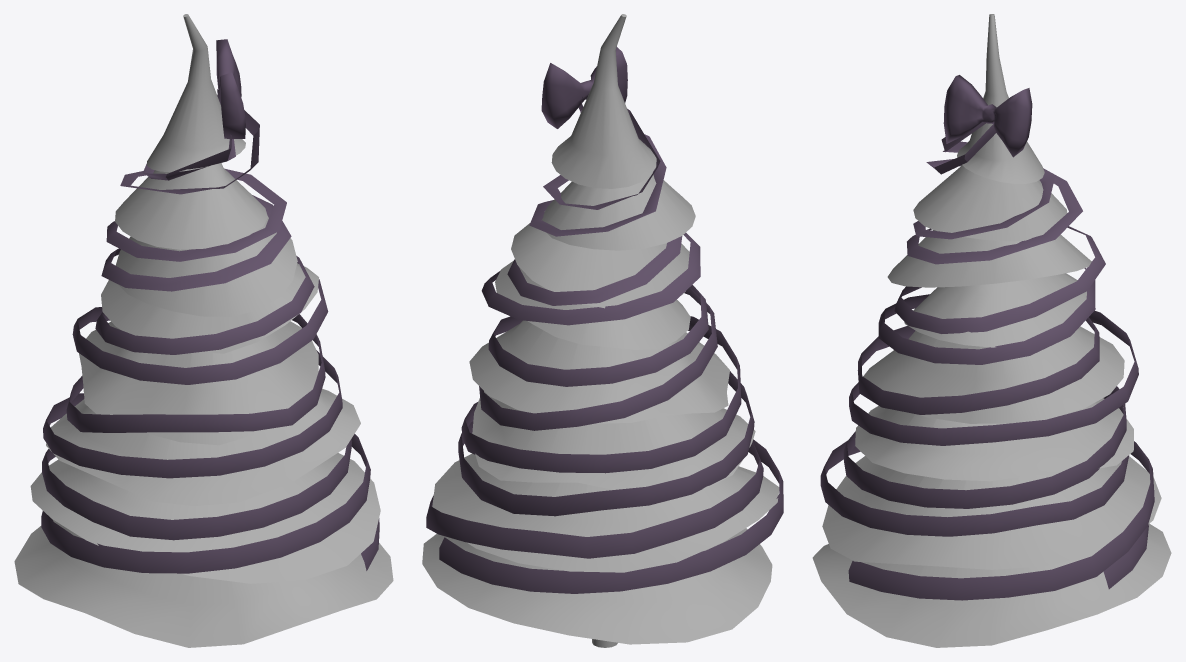
Rendered from tree_UV.fbx.
The picture shows the model from 3 angles, left to right: view 1: azimuth 30°, elevation 25°; view 2: azimuth 150°, elevation 25°; view 3: azimuth 270°, elevation 25°; orthographic projection. The views are drawn at different scales.
Parts seen in each view (by area): view 1: trunk_GEO, ribbon_02_GEO, ribbon_01_GEO, bow_GEO; view 2: trunk_GEO, ribbon_02_GEO, ribbon_01_GEO, bow_GEO; view 3: trunk_GEO, ribbon_01_GEO, ribbon_02_GEO, bow_GEO.
Part boxes in pixels (x1,y1,x2,y2): trunk_GEO: (14,14,393,647); ribbon_02_GEO: (41,89,370,573); ribbon_01_GEO: (42,134,379,570); bow_GEO: (216,39,245,138); trunk_GEO: (422,14,779,647); ribbon_02_GEO: (439,97,783,593); ribbon_01_GEO: (426,108,763,558); bow_GEO: (541,47,627,128); trunk_GEO: (812,14,1171,647); ribbon_01_GEO: (843,122,1154,600); ribbon_02_GEO: (820,124,1148,589); bow_GEO: (943,75,1032,157).
Bounding box in the file's own units: 17.53 × 32.9 × 17.44.
